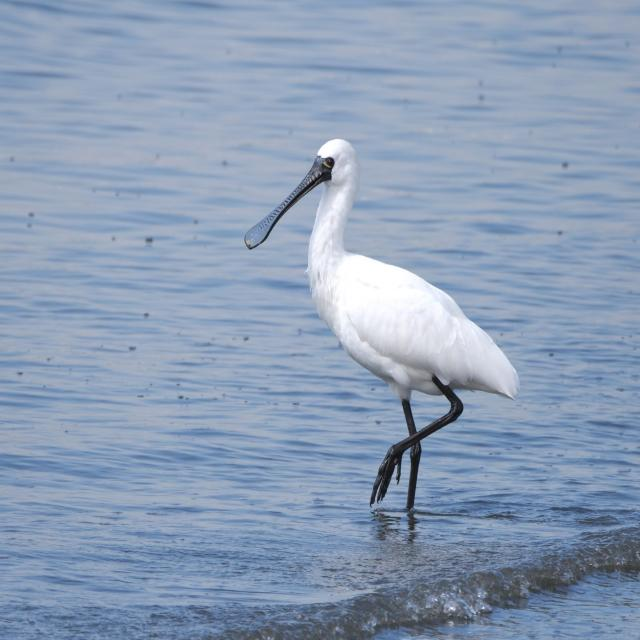Black-faced spoonbill: (245, 140, 519, 508)
